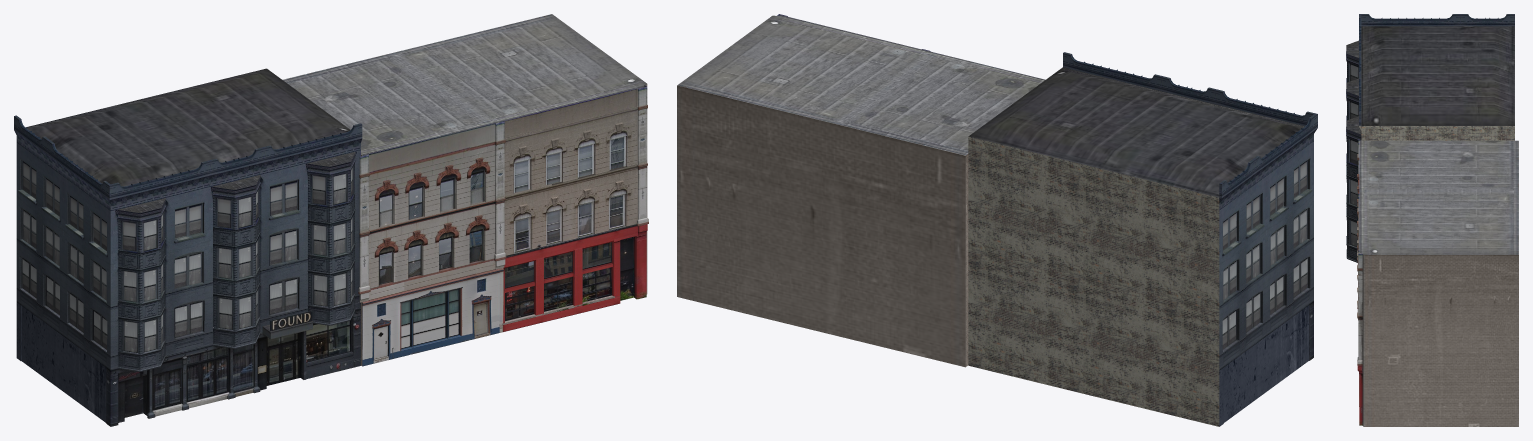
The model's file is Builds.fbx.
3 renders of one model, left to right at view 1: azimuth 30°, elevation 25°; view 2: azimuth 150°, elevation 25°; view 3: azimuth 270°, elevation 25°, orthographic. The views are drawn at different scales.
Parts seen in each view (by area): view 1: Building black, Building; view 2: Building, Bricks, Building black; view 3: Building, Building black, Bricks.
Boxes of the visible parts, <box> form: Building black: <box>14,68,362,426</box>; Building: <box>282,14,648,366</box>; Building: <box>677,14,1045,367</box>; Bricks: <box>968,136,1219,426</box>; Building black: <box>968,52,1317,426</box>; Building: <box>1357,139,1518,426</box>; Building black: <box>1346,14,1514,262</box>; Bricks: <box>1359,126,1514,140</box>.
Size of the model in its own units: 24.41 by 10.47 by 8.29.
Materials: 3 (3 with a texture image).
